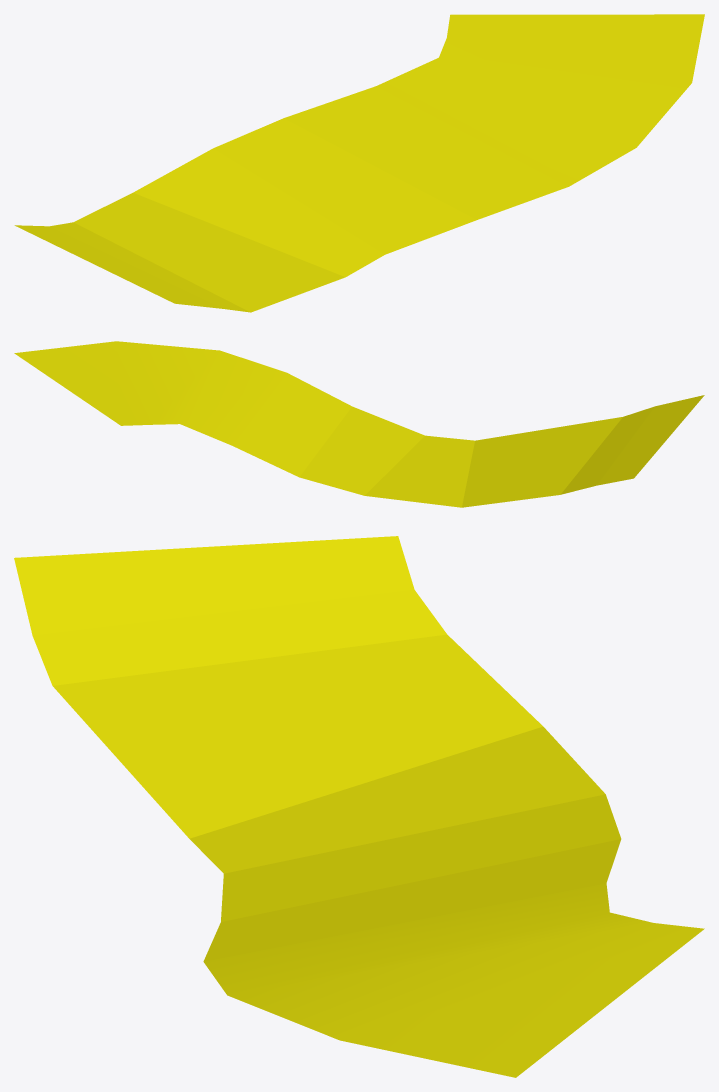
The model's file is Hidethisbetter.fbx.
3 renders of one model, top to bottom at view 1: azimuth 30°, elevation 25°; view 2: azimuth 150°, elevation 25°; view 3: azimuth 270°, elevation 25°, orthographic. The views are drawn at different scales.
Visible parts, largest first — view 1: HIDETHIS; view 2: HIDETHIS; view 3: HIDETHIS.
Part boxes in pixels (box(x1,y1,x2,y2)): HIDETHIS: box(14, 14, 704, 312); HIDETHIS: box(14, 341, 704, 507); HIDETHIS: box(14, 536, 704, 1077).
Size of the model in its own units: 11713 by 1139 by 6221.
